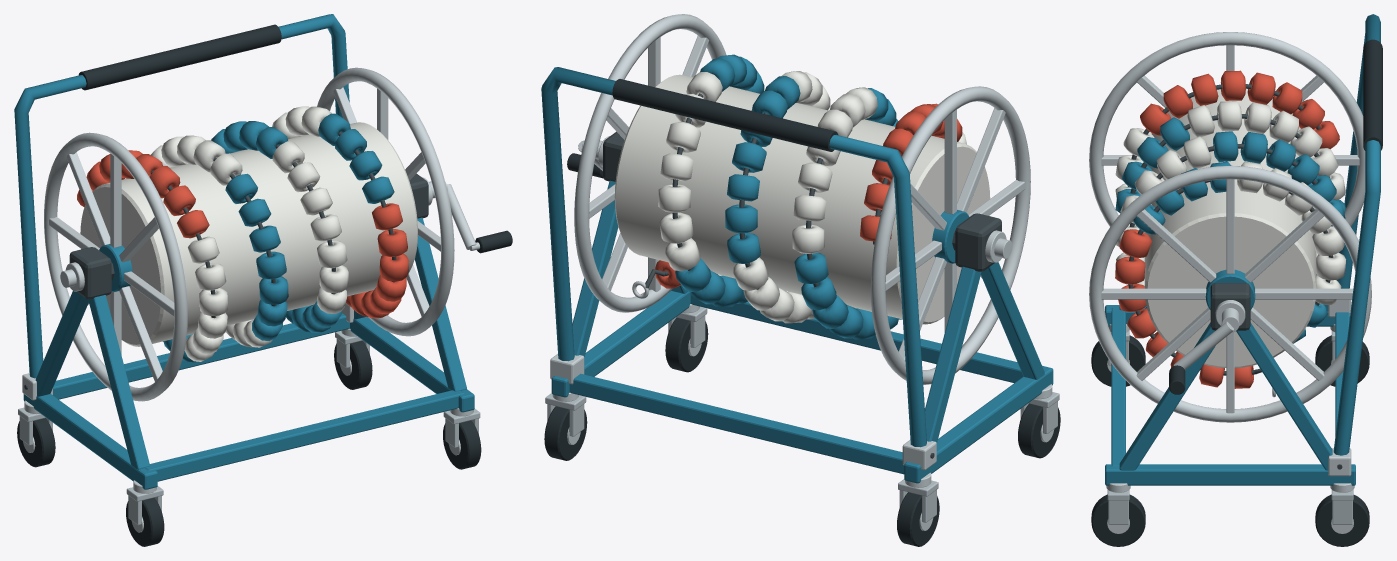
Rendered from city-pool-lane-rope-reel.glb.
3 views of the same model, side by side, from view 1: azimuth 30°, elevation 25°; view 2: azimuth 150°, elevation 25°; view 3: azimuth 270°, elevation 25° (orthographic). The views are drawn at different scales.
Visible parts, largest first — view 1: Assembly | Pool blue powder coat, Assembly | Warm white molded polymer, Assembly | Satin stainless steel, Assembly | Charcoal rubber and traction strips, Assembly | Warm coral molded polymer, Assembly | Graphite mechanical fittings, Assembly | Soft anodized aluminum; view 2: Assembly | Pool blue powder coat, Assembly | Warm white molded polymer, Assembly | Satin stainless steel, Assembly | Charcoal rubber and traction strips, Assembly | Graphite mechanical fittings, Assembly | Warm coral molded polymer, Assembly | Soft anodized aluminum; view 3: Assembly | Satin stainless steel, Assembly | Warm white molded polymer, Assembly | Pool blue powder coat, Assembly | Warm coral molded polymer, Assembly | Charcoal rubber and traction strips, Assembly | Graphite mechanical fittings, Assembly | Soft anodized aluminum.
Part boxes in pixels (bbox=[...]): Assembly | Pool blue powder coat: bbox=[14, 14, 474, 489]; Assembly | Warm white molded polymer: bbox=[80, 106, 417, 361]; Assembly | Satin stainless steel: bbox=[22, 67, 479, 532]; Assembly | Charcoal rubber and traction strips: bbox=[17, 24, 512, 546]; Assembly | Warm coral molded polymer: bbox=[77, 150, 408, 318]; Assembly | Graphite mechanical fittings: bbox=[24, 131, 428, 389]; Assembly | Soft anodized aluminum: bbox=[18, 331, 480, 524]; Assembly | Pool blue powder coat: bbox=[541, 54, 1053, 483]; Assembly | Warm white molded polymer: bbox=[614, 71, 990, 324]; Assembly | Satin stainless steel: bbox=[550, 14, 1054, 530]; Assembly | Charcoal rubber and traction strips: bbox=[544, 79, 1060, 546]; Assembly | Graphite mechanical fittings: bbox=[603, 93, 1001, 458]; Assembly | Warm coral molded polymer: bbox=[655, 103, 962, 288]; Assembly | Soft anodized aluminum: bbox=[545, 306, 1059, 522]; Assembly | Satin stainless steel: bbox=[1089, 32, 1371, 533]; Assembly | Warm white molded polymer: bbox=[1115, 88, 1345, 367]; Assembly | Pool blue powder coat: bbox=[1105, 14, 1380, 485]; Assembly | Warm coral molded polymer: bbox=[1115, 70, 1339, 388]; Assembly | Charcoal rubber and traction strips: bbox=[1091, 39, 1382, 546]; Assembly | Graphite mechanical fittings: bbox=[1127, 84, 1342, 469]; Assembly | Soft anodized aluminum: bbox=[1107, 330, 1353, 524].
Size of the model in its own units: 1.47 by 1.22 by 0.866.
